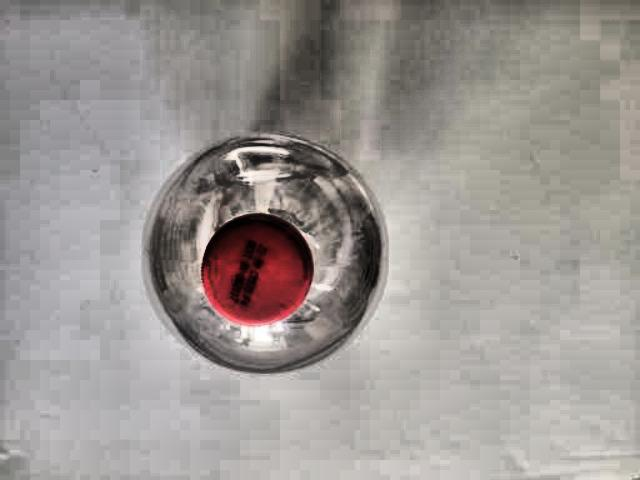Bottles: (140, 116, 397, 392)
